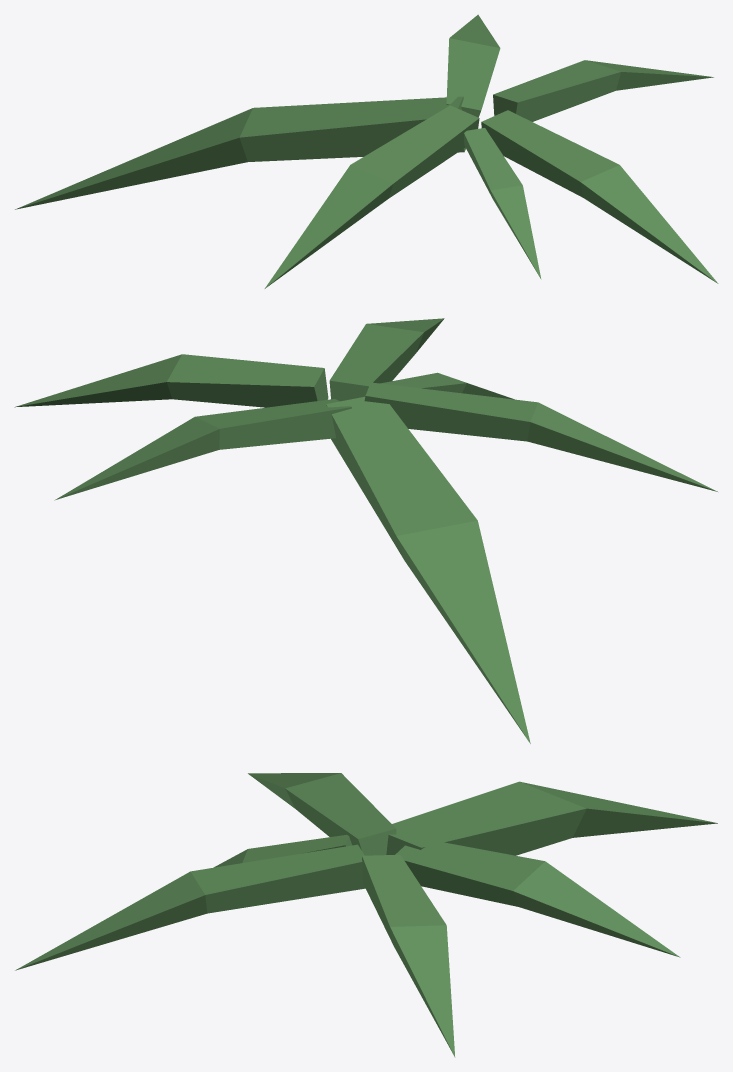
The picture shows the model from 3 angles, top to bottom: view 1: azimuth 30°, elevation 25°; view 2: azimuth 150°, elevation 25°; view 3: azimuth 270°, elevation 25°; orthographic projection. The views are drawn at different scales.
Parts seen in each view (by area): view 1: bamboo-leaf5; view 2: bamboo-leaf5; view 3: bamboo-leaf5.
Part boxes in pixels (x1,y1,x2,y2): bamboo-leaf5: [15, 14, 718, 288]; bamboo-leaf5: [14, 318, 717, 743]; bamboo-leaf5: [15, 773, 717, 1057].
Bounding box in the file's own units: 50.19 × 11.59 × 46.72.
